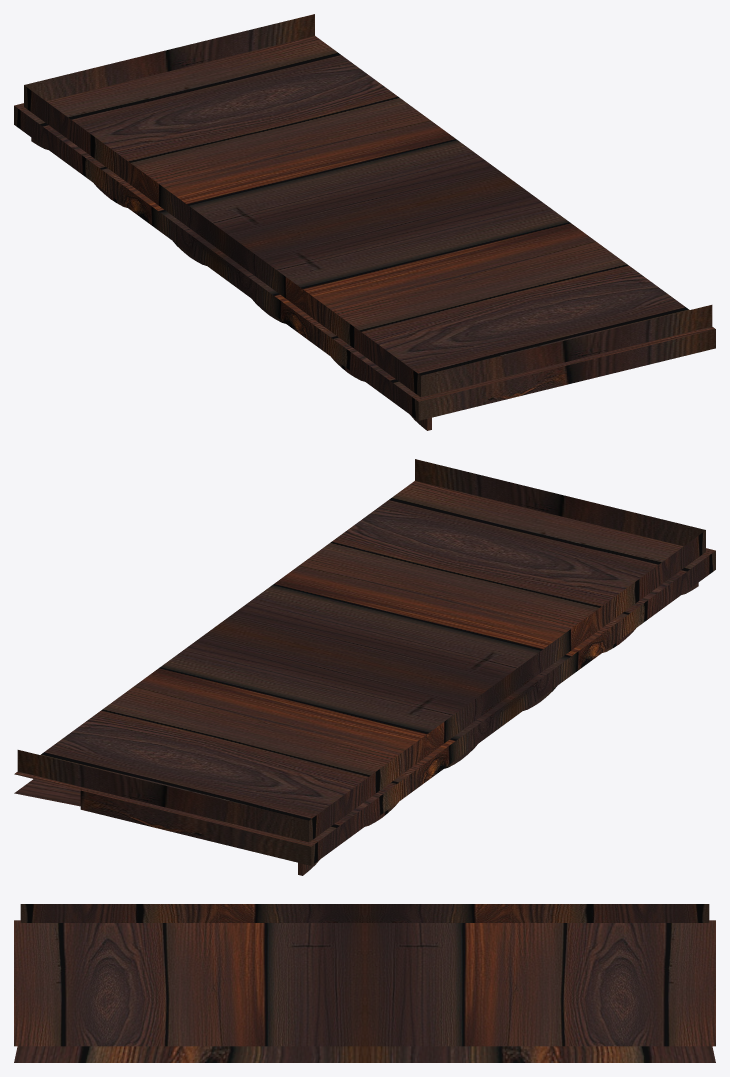
The model's file is contra.obj.
3 views of the same model, one above another, from view 1: azimuth 30°, elevation 25°; view 2: azimuth 150°, elevation 25°; view 3: azimuth 270°, elevation 25° (orthographic). The views are drawn at different scales.
Parts seen in each view (by area): view 1: Contraesquina; view 2: Contraesquina; view 3: Contraesquina.
Boxes of the visible parts, x1,y1,x2,y2 form: Contraesquina: (14, 14, 715, 430); Contraesquina: (14, 459, 715, 875); Contraesquina: (14, 904, 715, 1062).
Bounding box in the file's own units: 8.46 × 1.56 × 19.95.
1 material, 1 textured.
